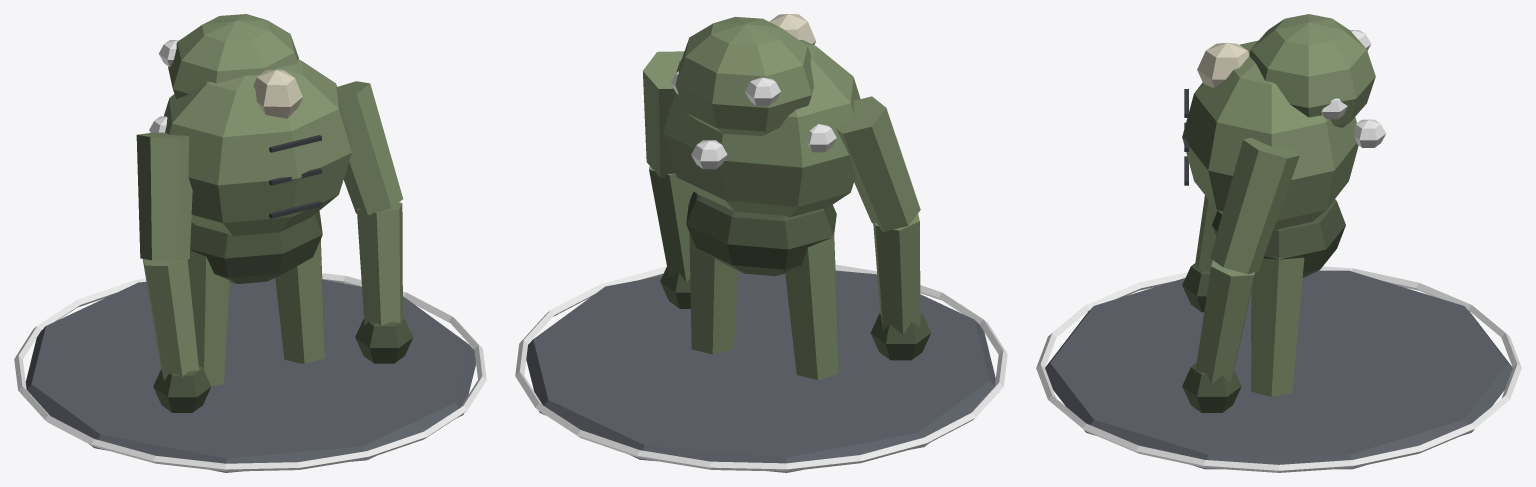
The model's file is brood_mother.fbx.
3 renders of one model, left to right at view 1: azimuth 30°, elevation 25°; view 2: azimuth 150°, elevation 25°; view 3: azimuth 270°, elevation 25°, orthographic. The views are drawn at different scales.
Visible parts, largest first — view 1: brood_mother; view 2: brood_mother; view 3: brood_mother.
Part boxes in pixels (<box>): brood_mother: <box>14,14,486,472</box>; brood_mother: <box>515,14,1007,472</box>; brood_mother: <box>1036,14,1521,472</box>.
Size of the model in its own units: 3.26 by 2.6 by 3.26.
2 materials, 1 textured.
